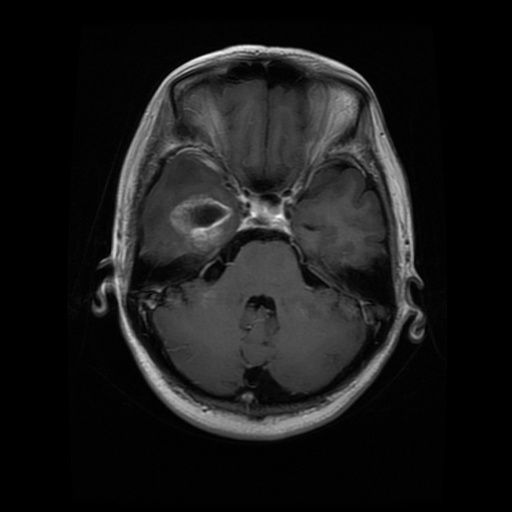glioma: (165, 182, 238, 253)
